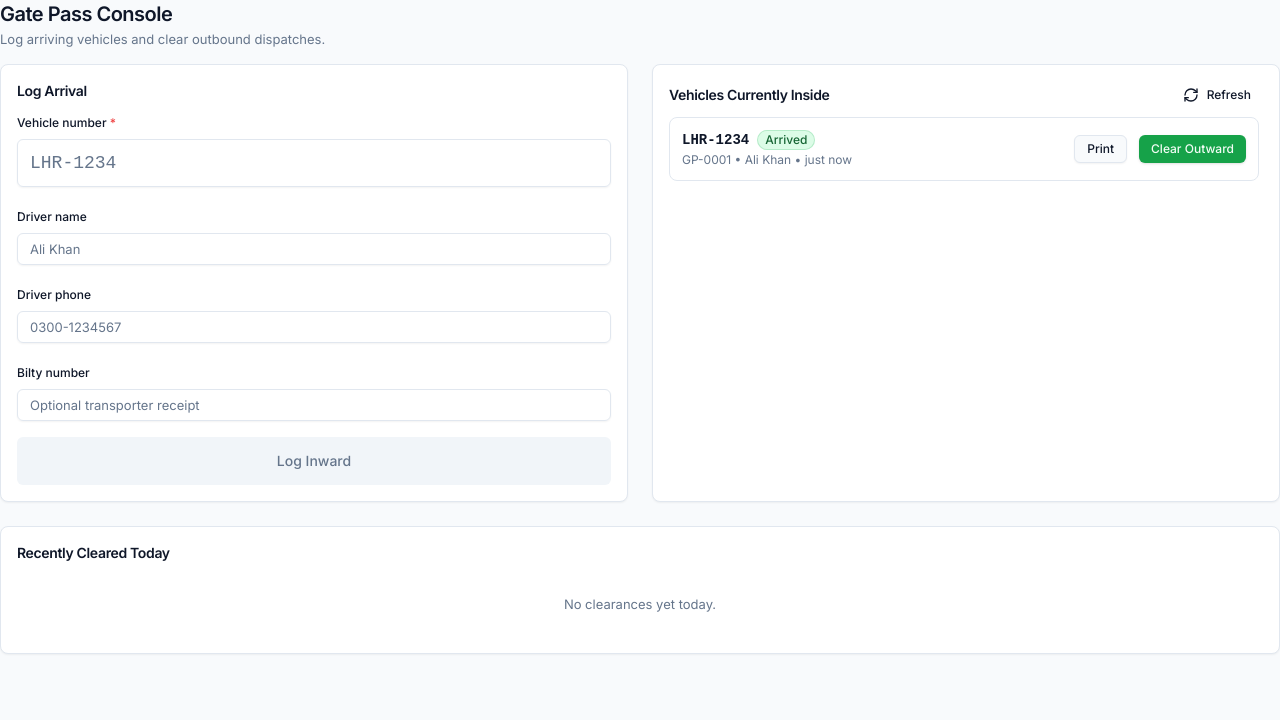
Scenario: GatePassConsolePage — clear outward › shows the server message when payment is pending, with one next step for the guard
The width and height of the screenshot is (1280, 720).
Click the button "Clear Outward": (1193, 149) [1139,135,1246,163]
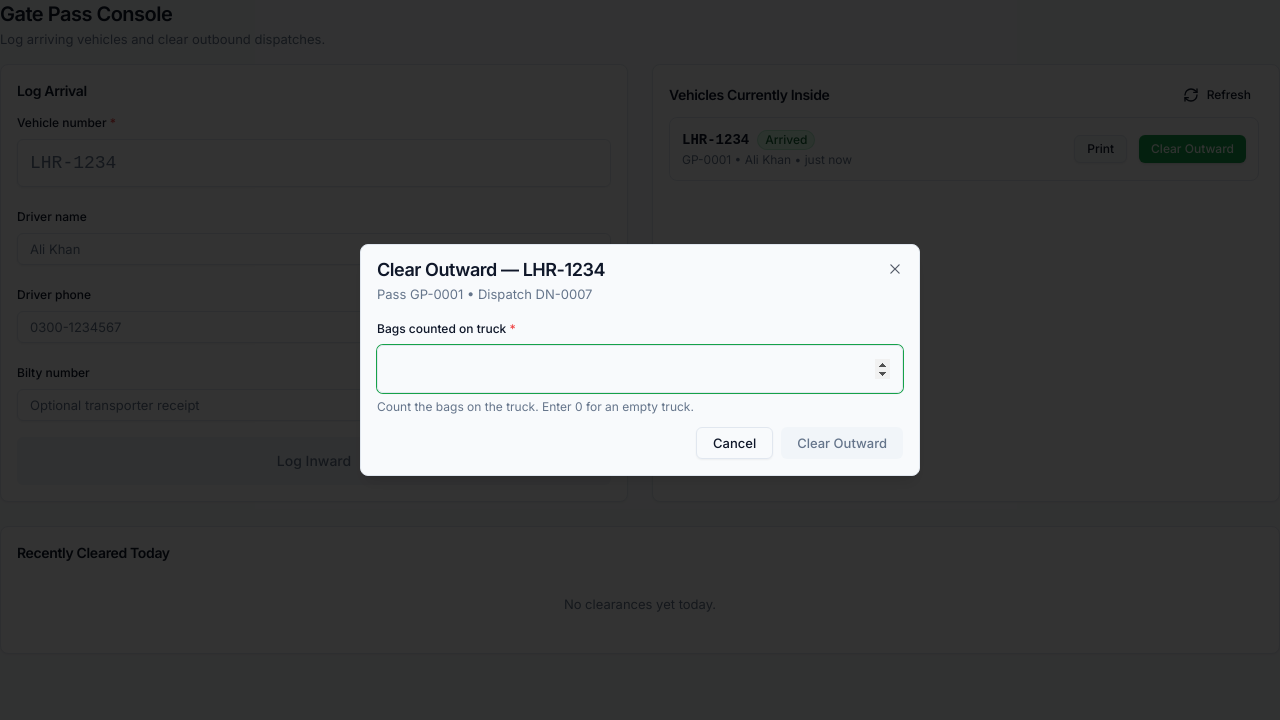
In the number field labelled "Bags counted on truck *": (640, 369) [377,345,903,393], type "137"
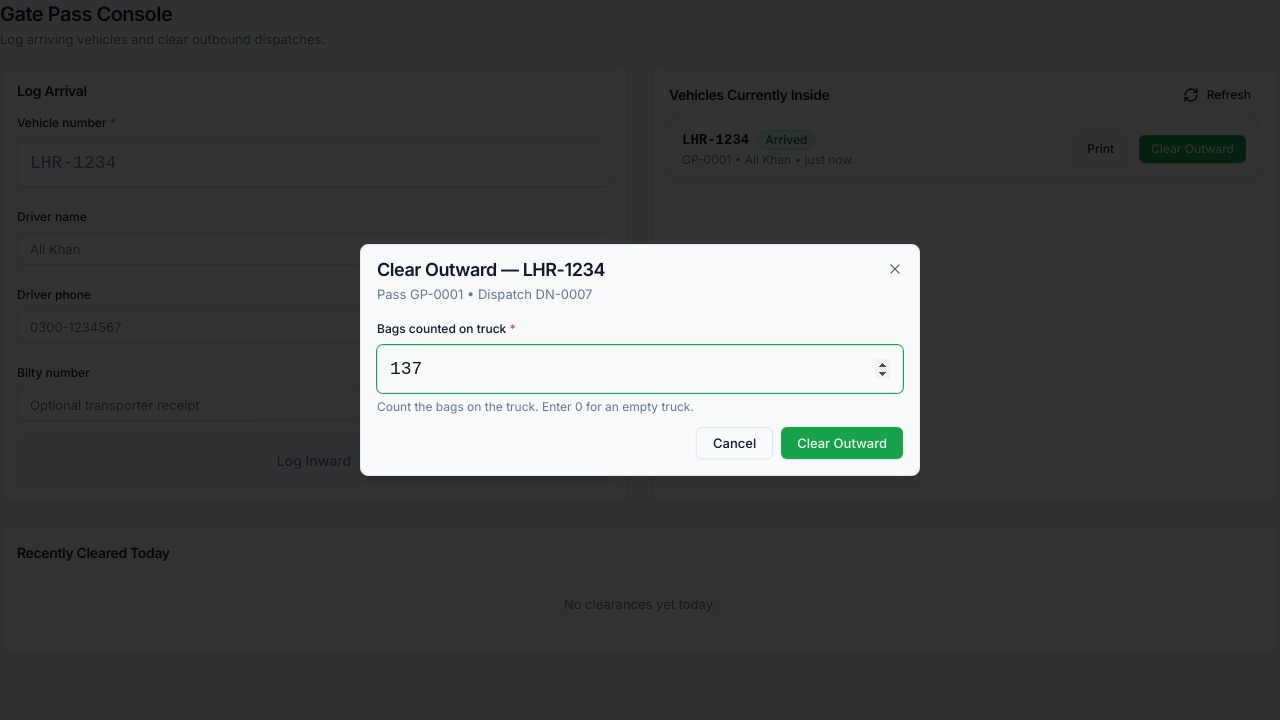
Click the button "Clear Outward": (842, 443) [781,427,903,459]
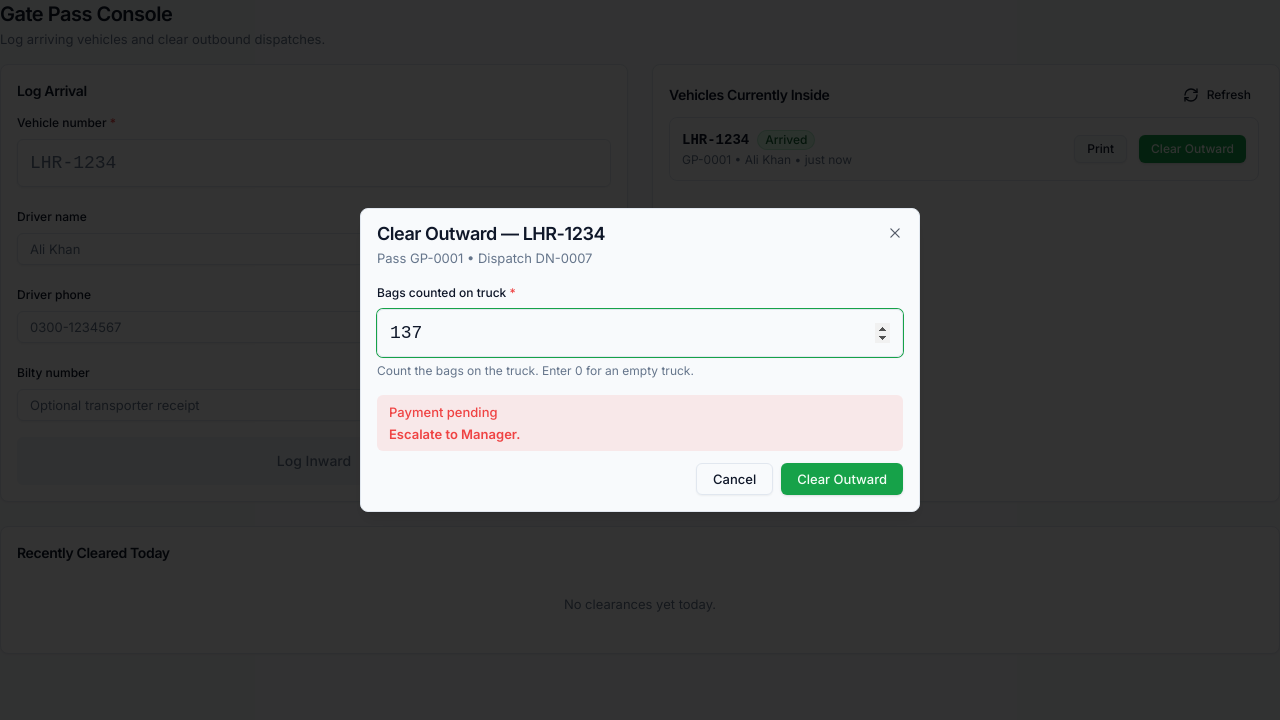
Expected: the text "Payment pending" is shown, [389,404,498,420]
Expected: the text "Escalate to Manager." is shown once, [389,426,520,442]
